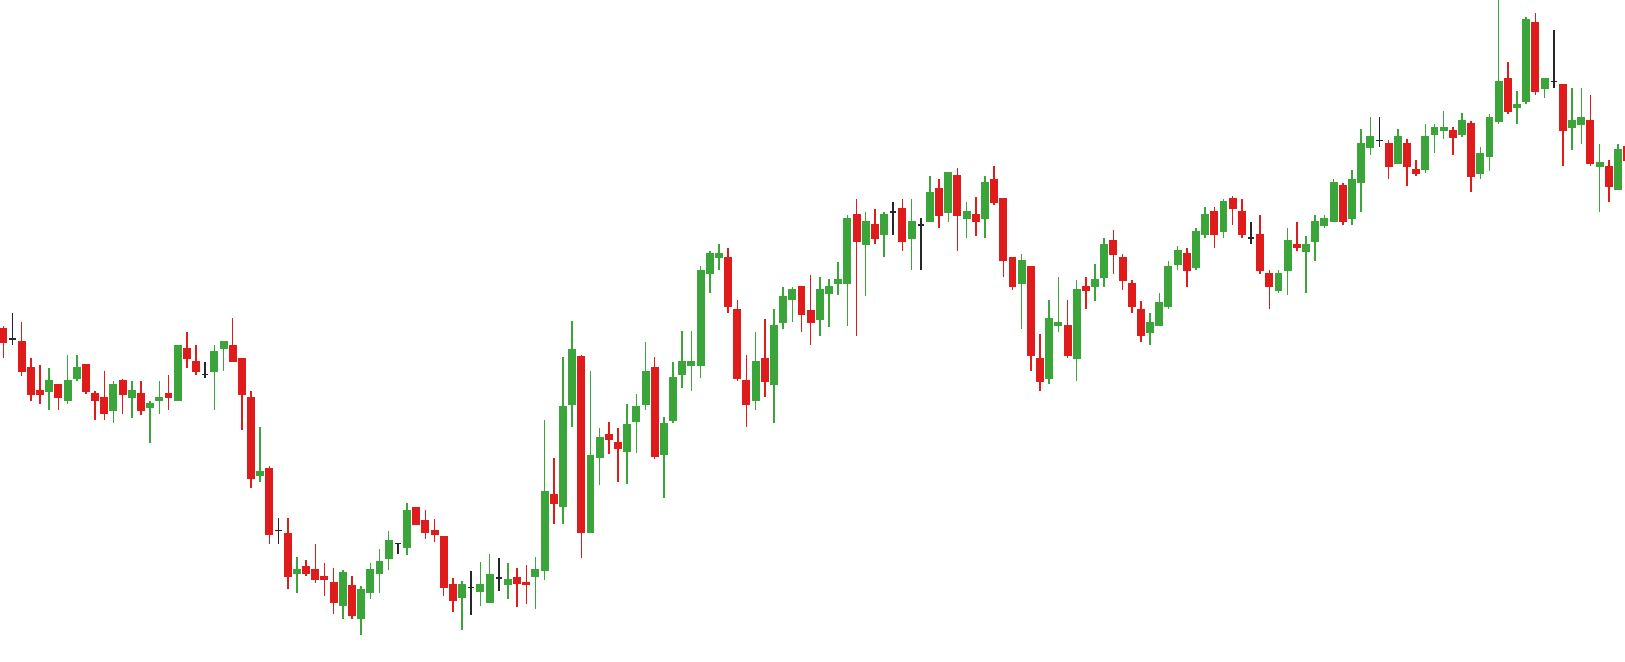buy: (1182, 212, 1282, 310), (614, 390, 669, 505), (1401, 131, 1484, 197)
sell: (184, 309, 238, 387)
